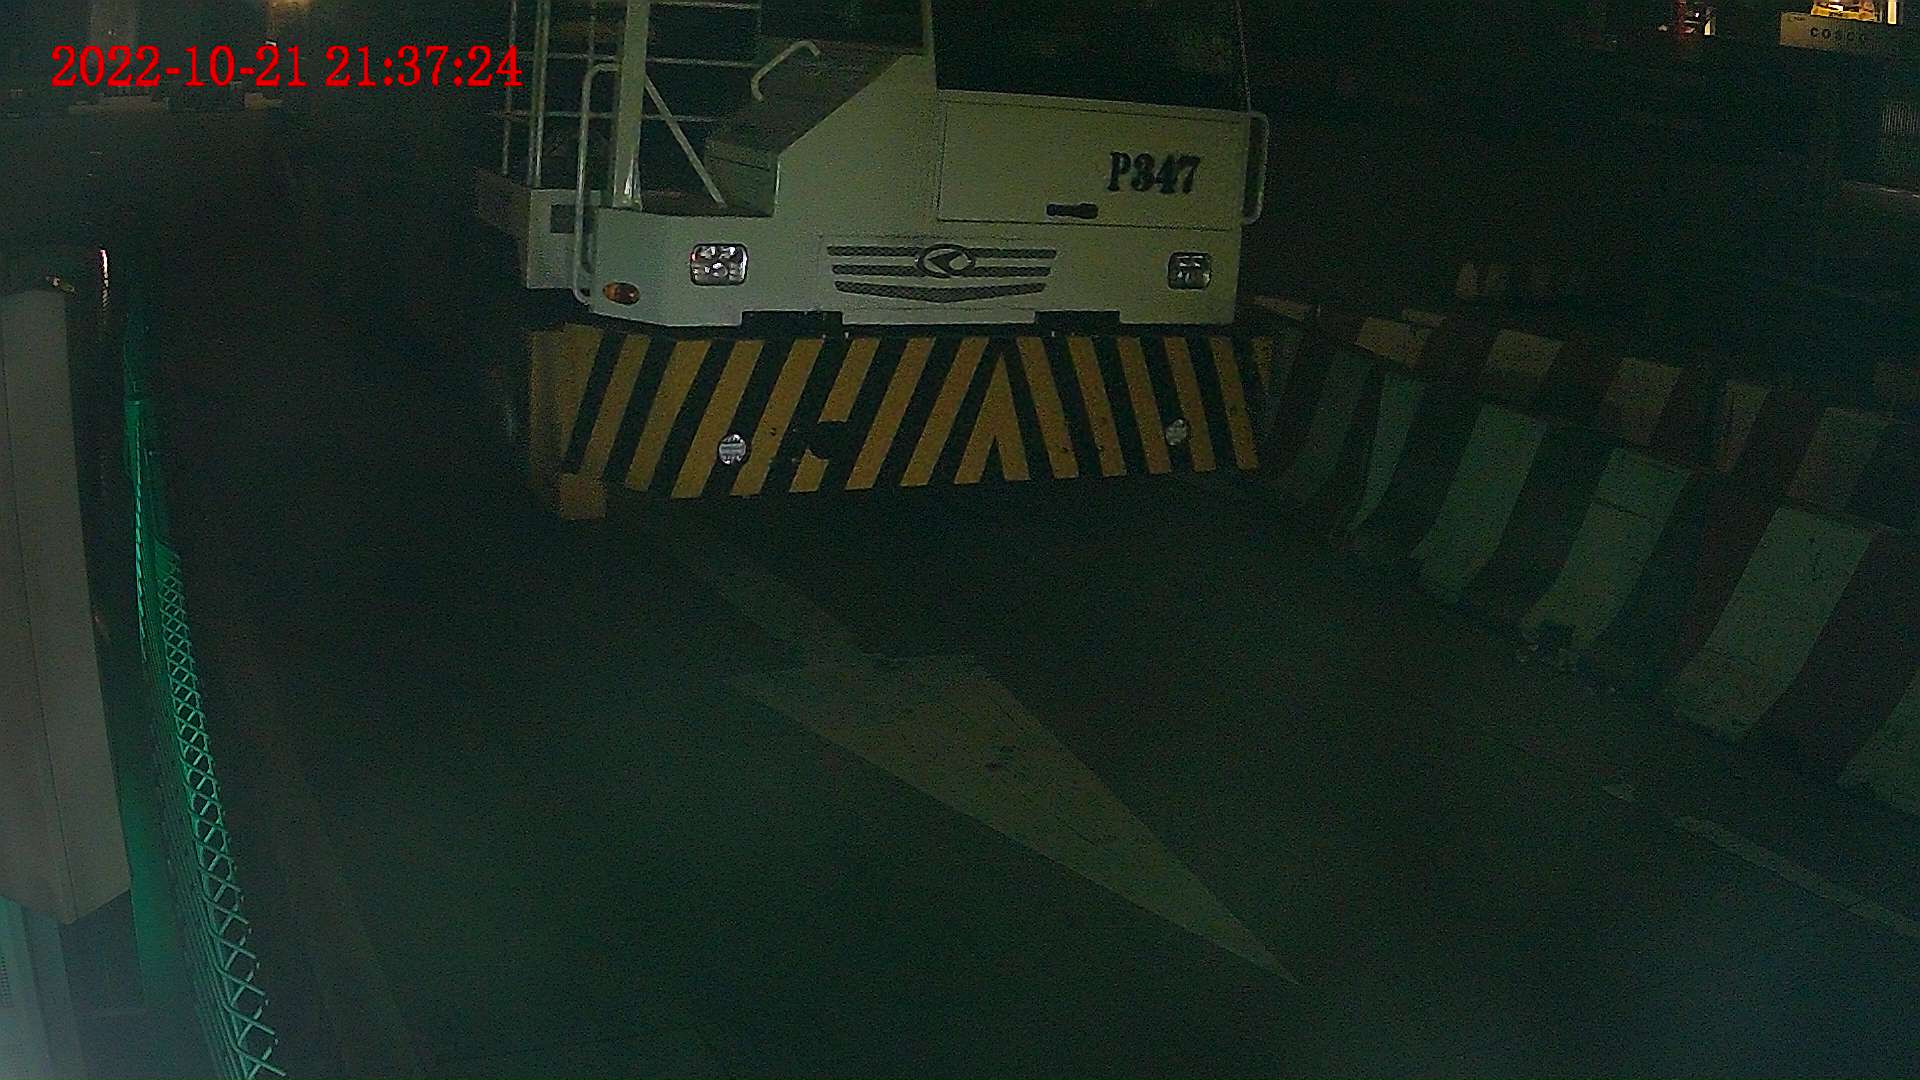head: (442, 1, 1277, 520)
